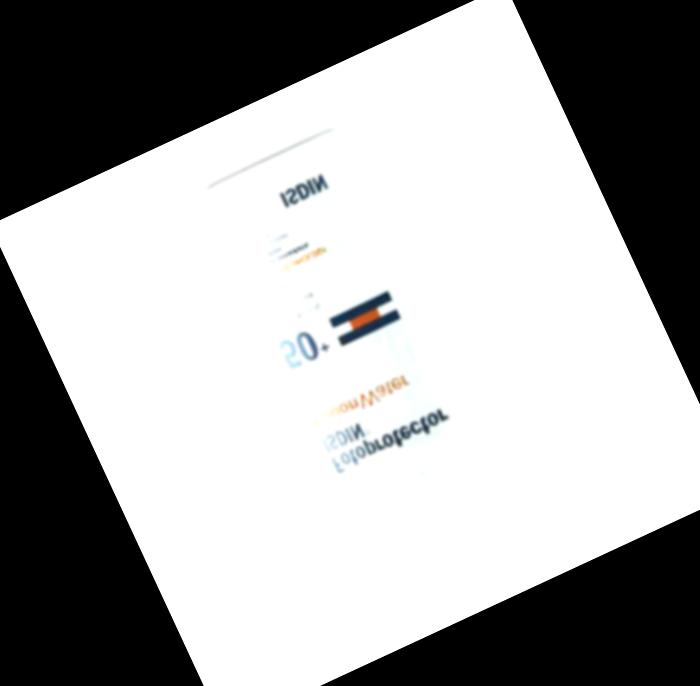cosmetic: (181, 111, 545, 595)
